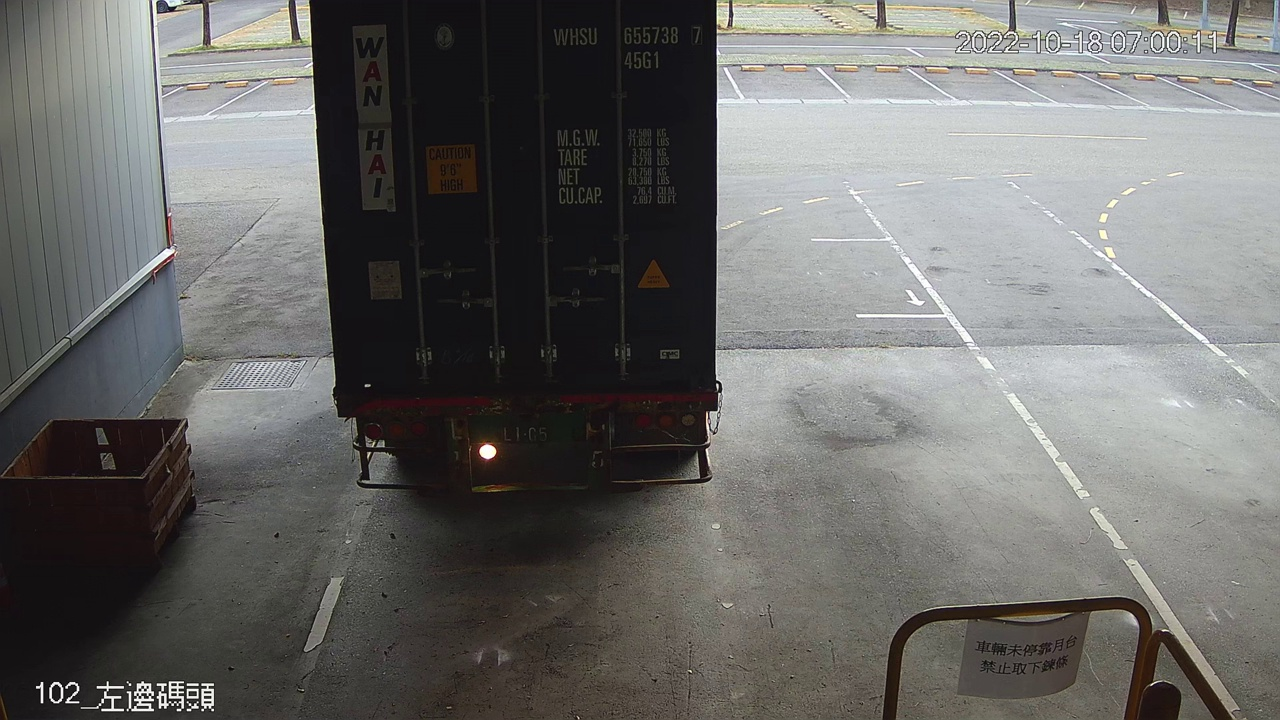container: (547, 19, 710, 74)
